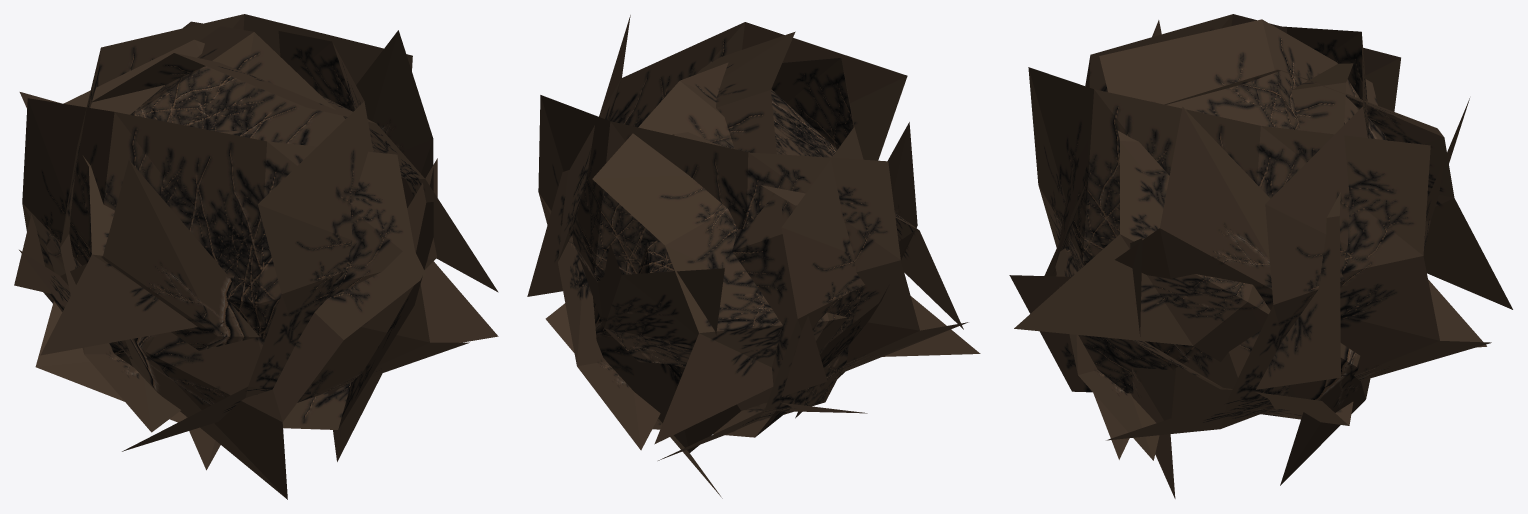
The model's file is tumbleweed.dae.
3 views of the same model, side by side, from view 1: azimuth 30°, elevation 25°; view 2: azimuth 150°, elevation 25°; view 3: azimuth 270°, elevation 25° (orthographic). The views are drawn at different scales.
Parts seen in each view (by area): view 1: Mesh_Object; view 2: Mesh_Object; view 3: Mesh_Object.
Boxes of the visible parts, x1,y1,x2,y2 form: Mesh_Object: (14,14,498,499); Mesh_Object: (527,15,980,498); Mesh_Object: (1009,14,1512,498).
Size of the model in its own units: 0.5686 by 0.5742 by 0.5794.
